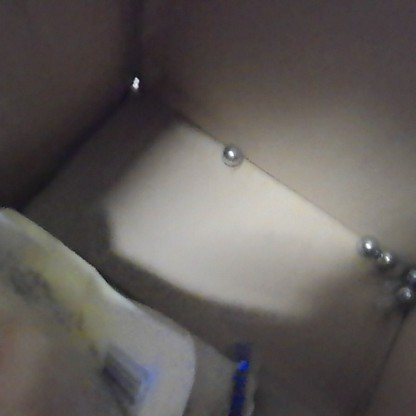ironball: (215, 138, 243, 169), (369, 242, 398, 270), (390, 278, 414, 307), (353, 230, 380, 254), (401, 263, 414, 282)
